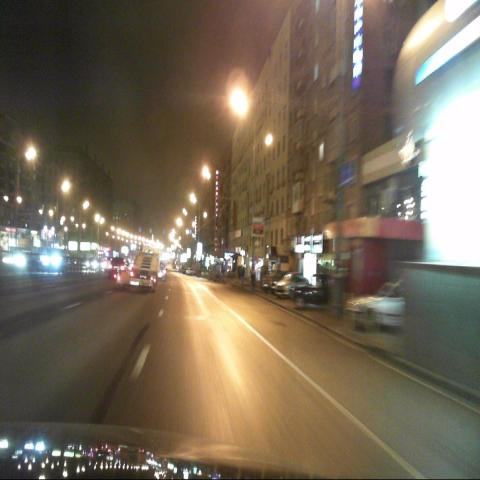6_6: (343, 163, 355, 183)
